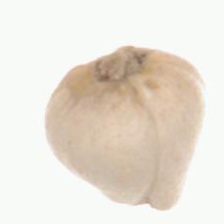L3: (117, 199, 179, 210)
L4: (45, 45, 204, 211)
